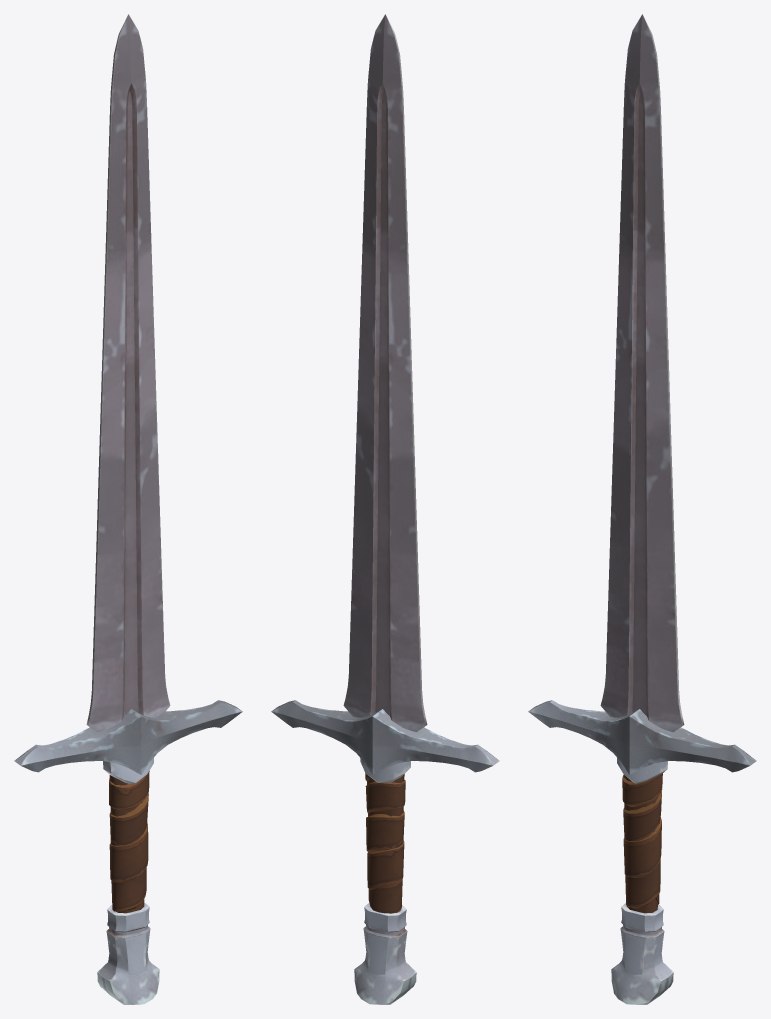
The model's file is sword.glb.
The picture shows the model from 3 angles, left to right: view 1: azimuth 30°, elevation 25°; view 2: azimuth 150°, elevation 25°; view 3: azimuth 330°, elevation 25°; orthographic projection.
Parts seen in each view (by area): view 1: sword_0; view 2: sword_0; view 3: sword_0.
Part boxes in pixels (left/top/right/bottom): sword_0: left=14, top=14, right=242, bottom=1004; sword_0: left=271, top=14, right=499, bottom=1004; sword_0: left=528, top=14, right=756, bottom=1004.
Bounding box in the file's own units: 0.2666 × 1.13 × 0.0654.
1 material, 1 textured.
